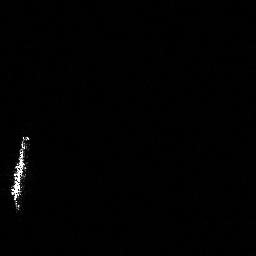ship: (6, 133, 33, 214)
